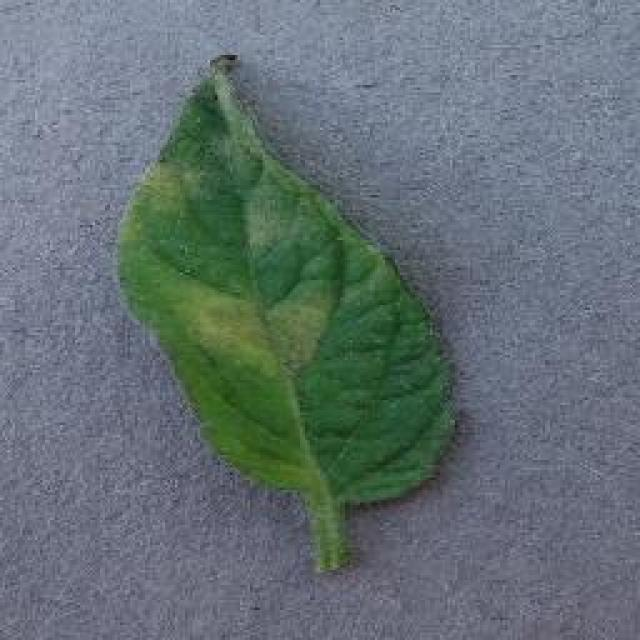Tomato mold leaf: (120, 55, 463, 505)
